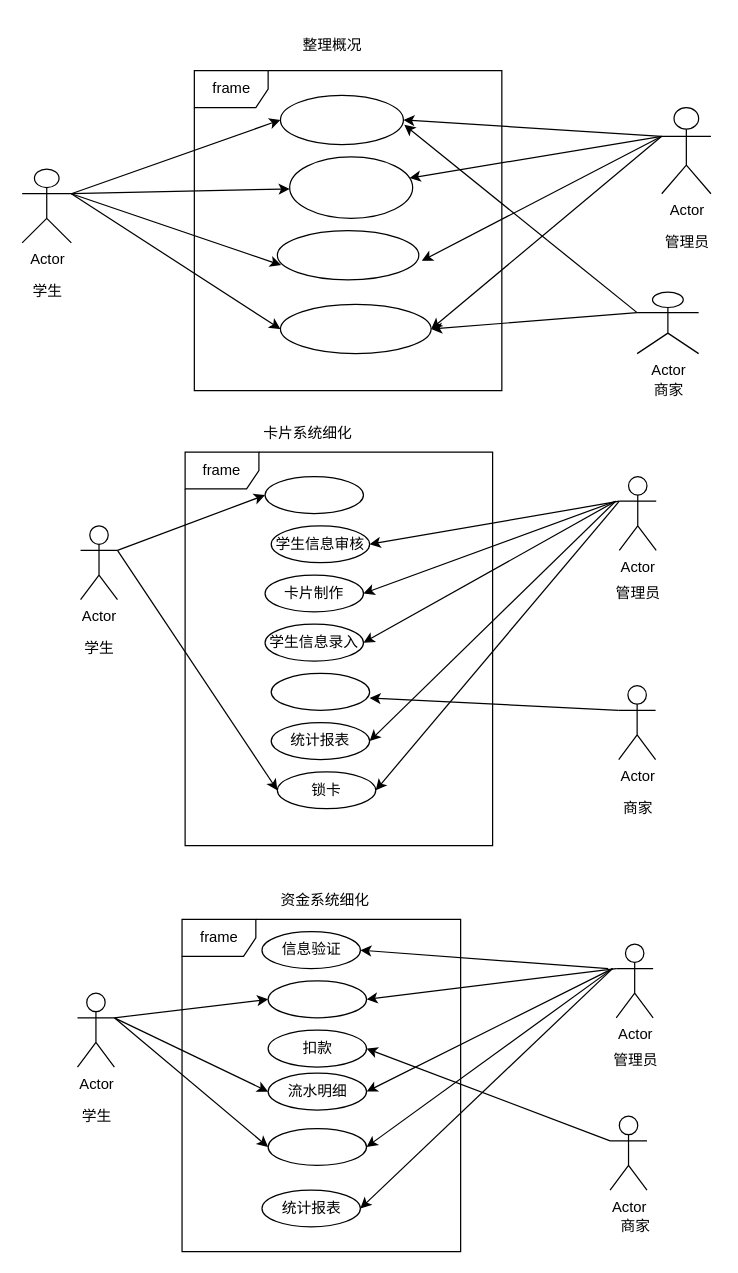
Image size: 738x1273. Some labels were removed from this diagram. Each missing label, with the centre of its shape:
"余额" belongs at point (317, 1146).
"充值" belongs at point (317, 999).
"卡片信息" belongs at point (320, 691).
"卡片系统" belongs at point (341, 119).
"商家系统" belongs at point (347, 254).
"学生信息系统" belongs at point (350, 187).
"申请" belongs at point (313, 494).
"资金系统" belongs at point (355, 328).
